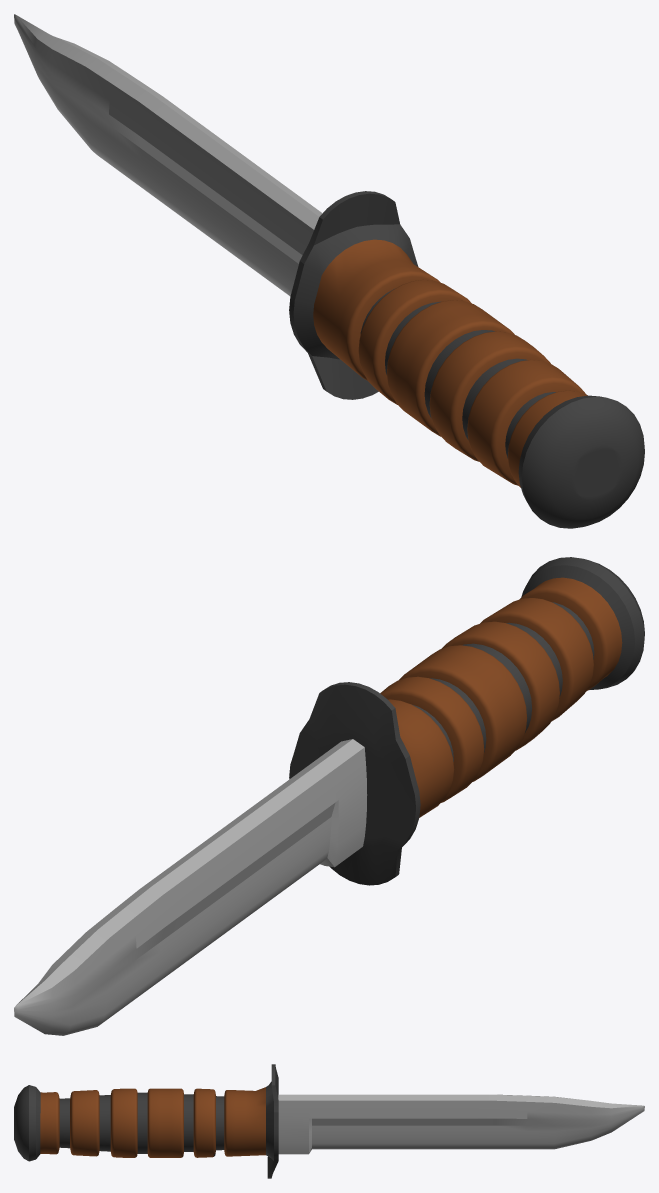
Rendered from CK_Project1.fbx.
3 renders of one model, top to bottom at view 1: azimuth 30°, elevation 25°; view 2: azimuth 150°, elevation 25°; view 3: azimuth 270°, elevation 25°, orthographic. The views are drawn at different scales.
Visible parts, largest first — view 1: Cylinder; view 2: Cylinder; view 3: Cylinder.
Part boxes in pixels (bbox=[...]): Cylinder: bbox=[14, 14, 644, 528]; Cylinder: bbox=[14, 557, 644, 1035]; Cylinder: bbox=[14, 1064, 644, 1178].
Size of the model in its own units: 0.5714 by 0.8625 by 4.54.
